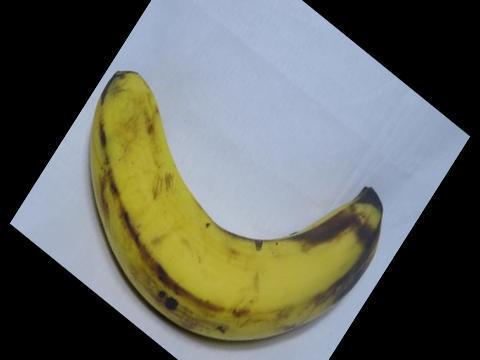ripe: (78, 71, 394, 354)
